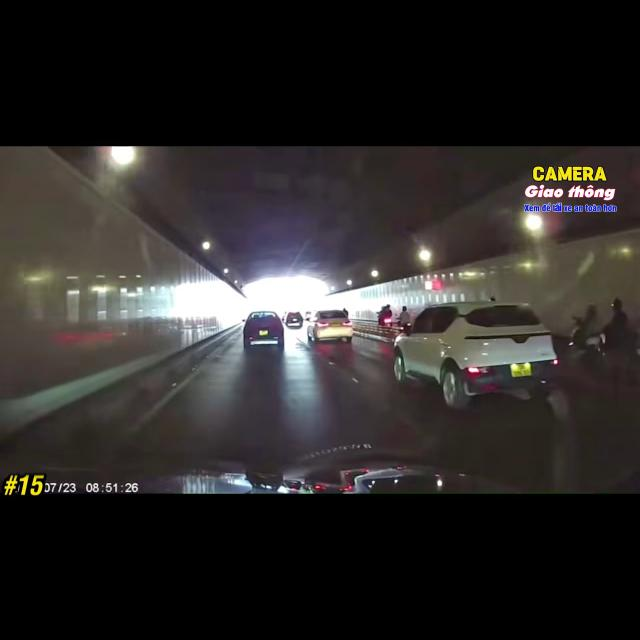car: (394, 302, 558, 409), (243, 311, 284, 348), (307, 310, 353, 342), (284, 312, 303, 327)
